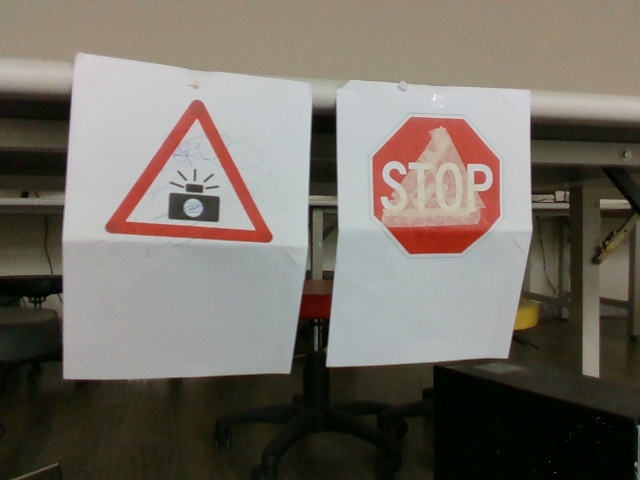camera: (110, 100, 272, 246)
stop: (370, 114, 504, 257)
